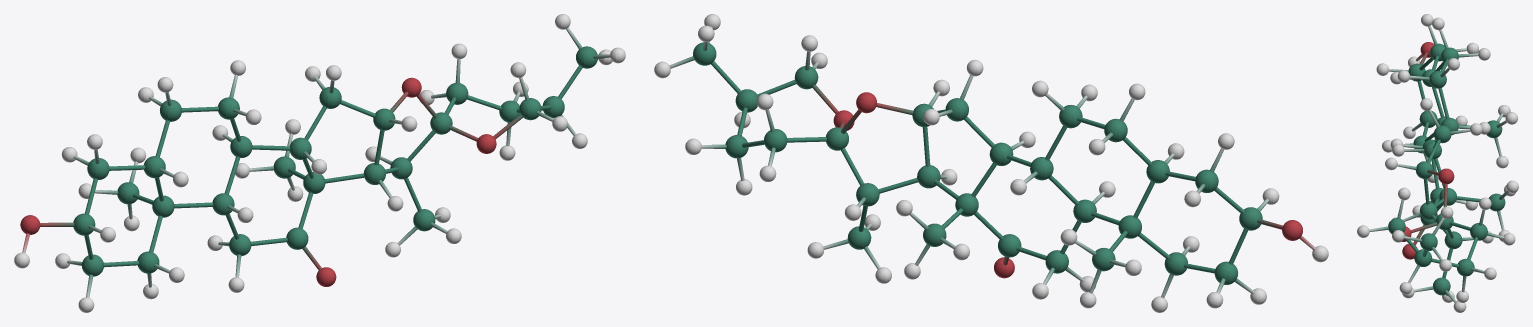
File: Hecogenin.fbx
The picture shows the model from 3 angles, left to right: view 1: azimuth 30°, elevation 25°; view 2: azimuth 150°, elevation 25°; view 3: azimuth 270°, elevation 25°; orthographic projection. The views are drawn at different scales.
Parts seen in each view (by area): view 1: curMeshHyperballExportedMesh; view 2: curMeshHyperballExportedMesh; view 3: curMeshHyperballExportedMesh.
Boxes of the visible parts, x1=… form: curMeshHyperballExportedMesh: x1=14, y1=14, x2=625, y2=312; curMeshHyperballExportedMesh: x1=654, y1=14, x2=1328, y2=312; curMeshHyperballExportedMesh: x1=1357, y1=14, x2=1518, y2=312.
Bounding box in the file's own units: 18.09 × 6.74 × 5.13.
